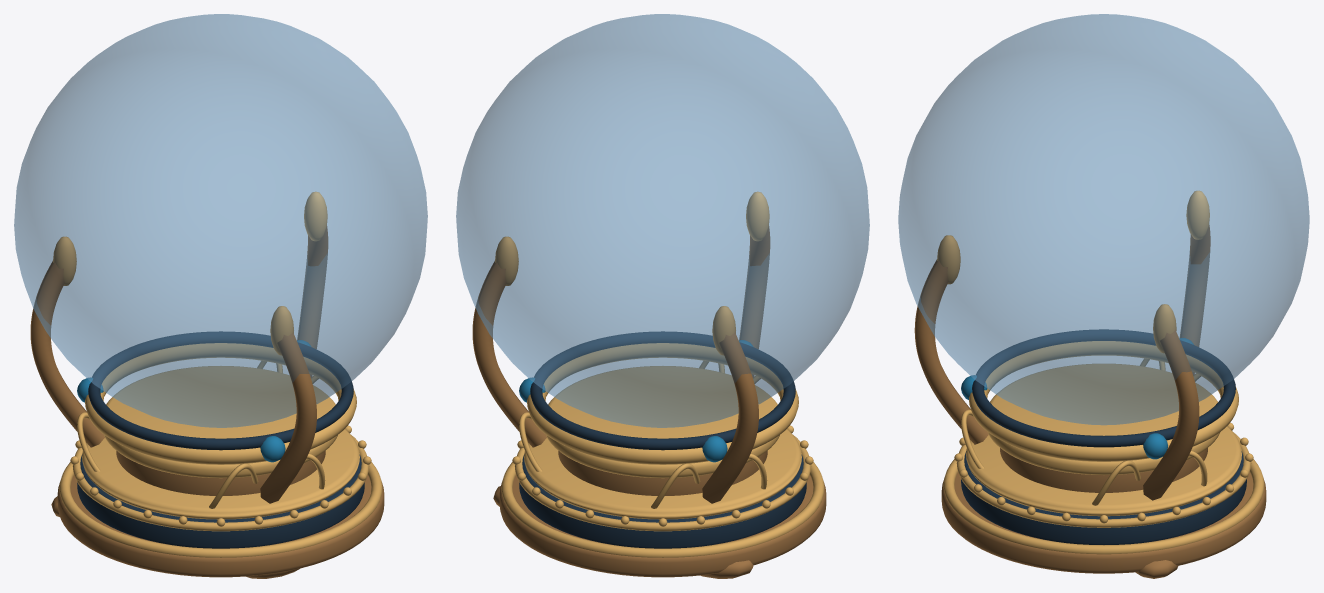
The model's file is scrying-orb-v1.glb.
3 renders of one model, left to right at view 1: azimuth 30°, elevation 25°; view 2: azimuth 150°, elevation 25°; view 3: azimuth 270°, elevation 25°, orthographic.
Parts seen in each view (by area): view 1: CrystalShell, Turned pedestal.004, Turned pedestal.002, Turned pedestal, Cradle ring, Cradle shadow inset, Turned pedestal.001, Lower milled ring, Swept bronze claw.001, Swept bronze claw.002, Enamel edge, Turned pedestal.003 (+4 smaller); view 2: CrystalShell, Turned pedestal.004, Turned pedestal.002, Turned pedestal, Cradle ring, Cradle shadow inset, Turned pedestal.001, Lower milled ring, Swept bronze claw, Swept bronze claw.001, Enamel edge, Turned pedestal.003 (+4 smaller); view 3: CrystalShell, Turned pedestal.004, Turned pedestal.002, Turned pedestal, Cradle ring, Cradle shadow inset, Turned pedestal.001, Lower milled ring, Swept bronze claw.002, Swept bronze claw, Enamel edge, Turned pedestal.003 (+5 smaller).
Part boxes in pixels (box(x1,y1,x2,y2)): CrystalShell: box(14, 14, 427, 427); Turned pedestal.004: box(104, 366, 337, 478); Turned pedestal.002: box(82, 429, 359, 519); Turned pedestal: box(57, 475, 384, 577); Cradle ring: box(85, 343, 356, 464); Cradle shadow inset: box(88, 331, 353, 450); Turned pedestal.001: box(77, 454, 364, 548); Lower milled ring: box(59, 462, 382, 557); Swept bronze claw.001: box(30, 261, 104, 447); Swept bronze claw.002: box(260, 332, 316, 503); Enamel edge: box(72, 435, 369, 531); Turned pedestal.003: box(116, 451, 325, 495); CrystalShell: box(456, 14, 869, 427); Turned pedestal.004: box(546, 366, 779, 478); Turned pedestal.002: box(524, 429, 801, 519); Turned pedestal: box(499, 475, 826, 577); Cradle ring: box(527, 343, 798, 464); Cradle shadow inset: box(530, 331, 795, 450); Turned pedestal.001: box(519, 454, 806, 548); Lower milled ring: box(501, 462, 824, 557); Swept bronze claw: box(472, 261, 546, 447); Swept bronze claw.001: box(702, 332, 758, 503); Enamel edge: box(514, 435, 811, 531); Turned pedestal.003: box(558, 451, 767, 495); CrystalShell: box(898, 14, 1309, 425); Turned pedestal.004: box(987, 364, 1220, 474); Turned pedestal.002: box(966, 426, 1241, 516); Turned pedestal: box(941, 472, 1266, 573); Cradle ring: box(969, 341, 1238, 461); Cradle shadow inset: box(972, 329, 1235, 447); Turned pedestal.001: box(961, 451, 1246, 544); Lower milled ring: box(943, 459, 1264, 554); Swept bronze claw.002: box(914, 260, 988, 444); Swept bronze claw: box(1143, 330, 1199, 500); Enamel edge: box(956, 432, 1251, 527); Turned pedestal.003: box(1000, 448, 1207, 492).
Size of the model in its own units: 1.7 by 2.22 by 1.7.
